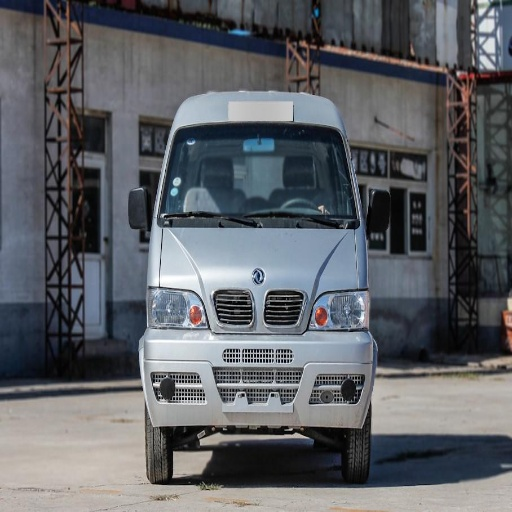front_bumper: (141, 267, 370, 428)
front_right_light: (149, 287, 203, 327)
hood: (163, 228, 361, 294)
